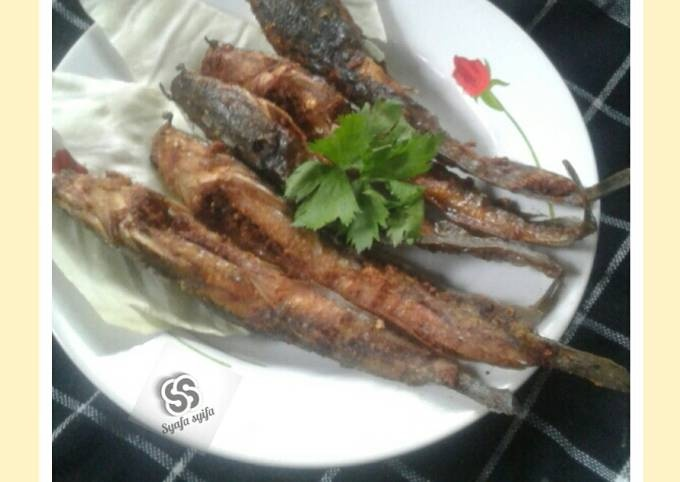pecel_lele: (67, 167, 289, 304)
